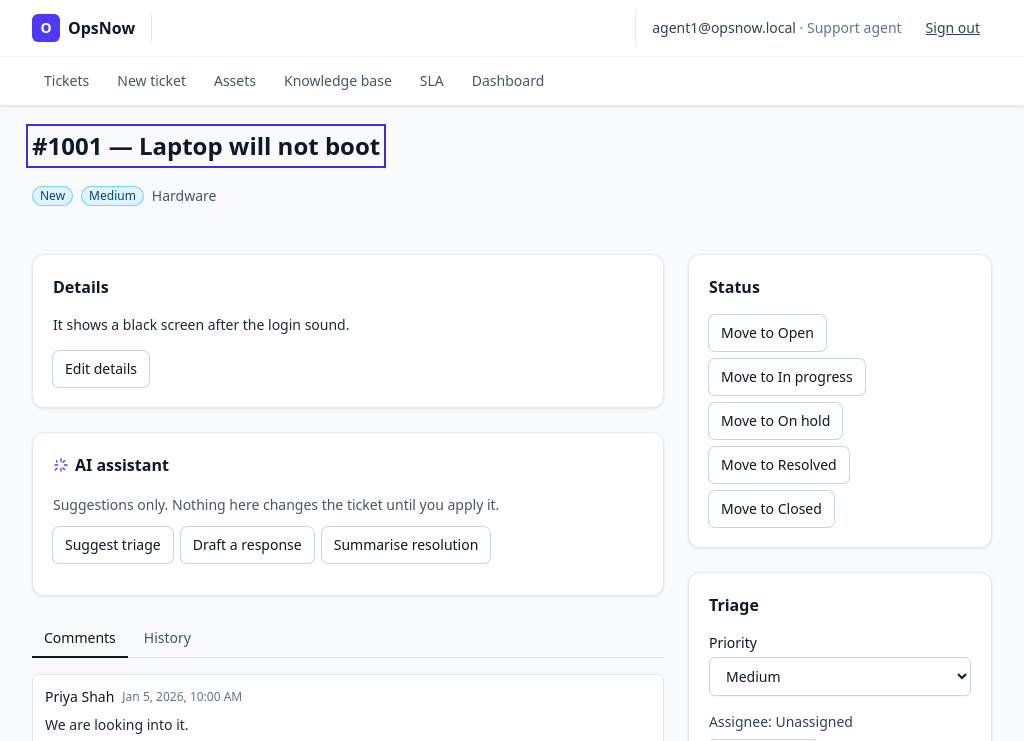
it: ticket detail — staff › shows the History tab and its entries
Expected: the heading "#1001 — Laptop will not boot" is shown, [32, 130, 380, 162]
Click the tab "History": (167, 639) [132, 620, 203, 658]
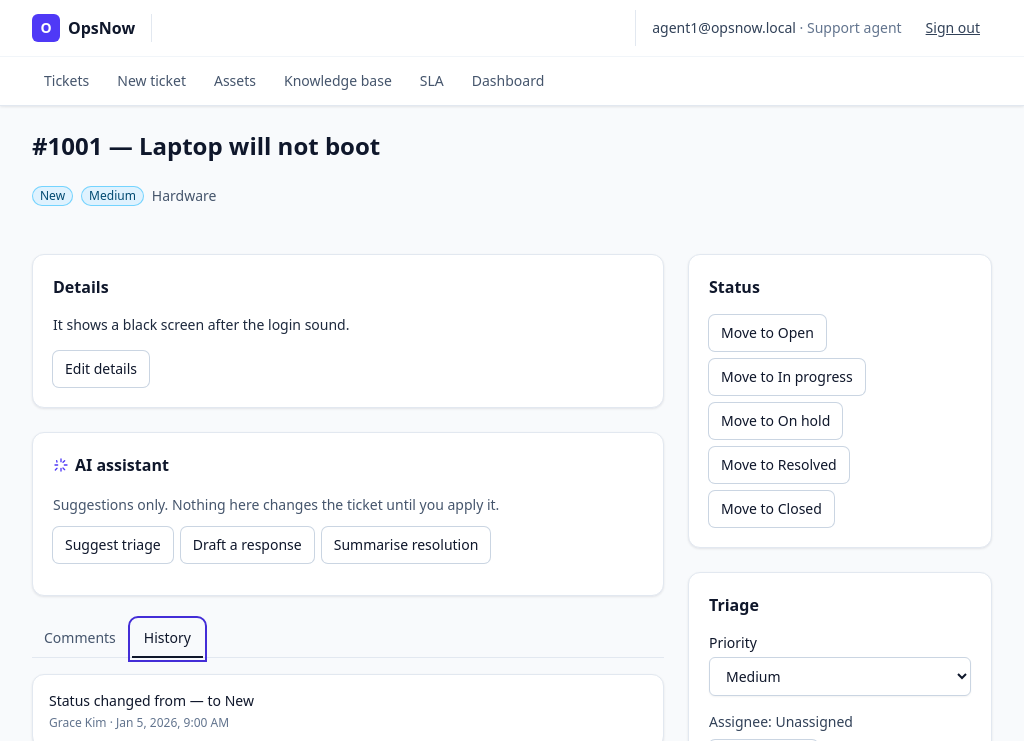
Expected: the text "Status changed from — to New" is shown, [49, 691, 254, 710]
